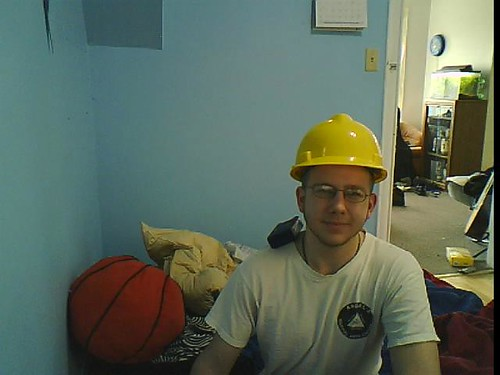person hardhat: (199, 112, 445, 375)
